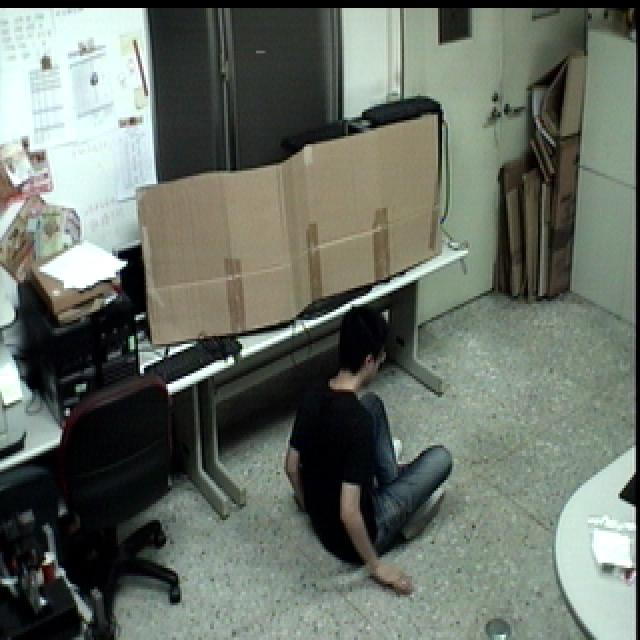sit: (280, 292, 460, 610)
